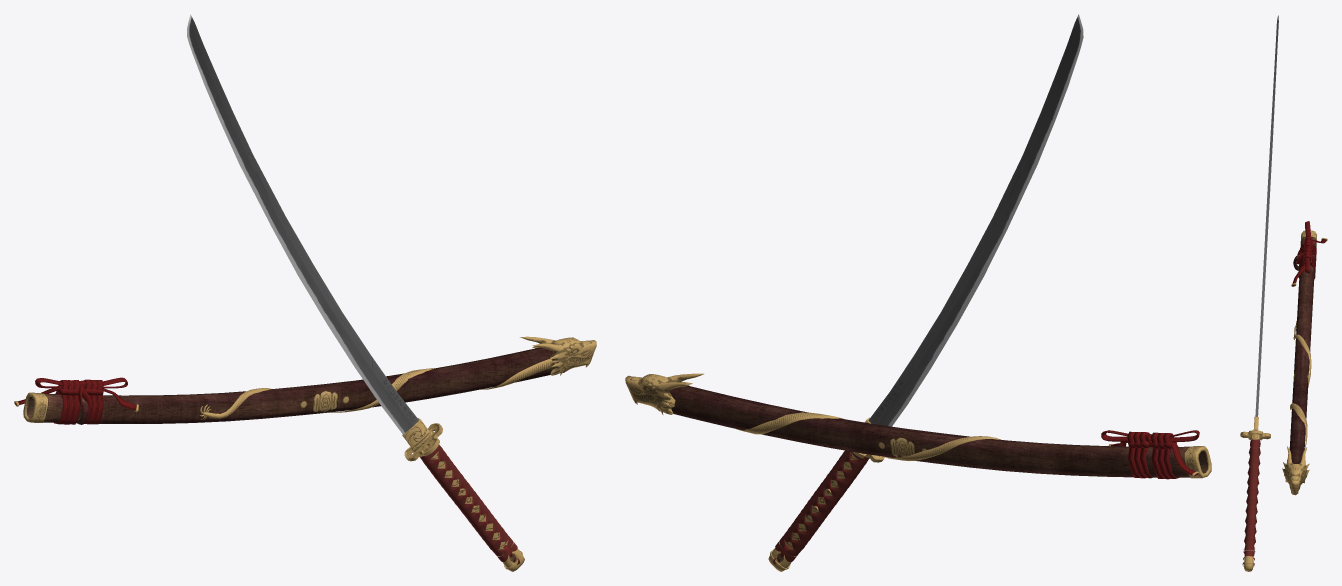
3 renders of one model, left to right at view 1: azimuth 30°, elevation 25°; view 2: azimuth 150°, elevation 25°; view 3: azimuth 270°, elevation 25°, orthographic. The views are drawn at different scales.
Parts seen in each view (by area): view 1: ck_scabbard_low, ck_katana_low; view 2: ck_scabbard_low, ck_katana_low; view 3: ck_scabbard_low, ck_katana_low.
Part boxes in pixels (<box>): ck_scabbard_low: <box>14,336,596,424</box>; ck_katana_low: <box>187,14,524,571</box>; ck_scabbard_low: <box>625,373,1211,479</box>; ck_katana_low: <box>768,14,1083,571</box>; ck_scabbard_low: <box>1282,221,1327,495</box>; ck_katana_low: <box>1240,15,1278,571</box>.
Bounding box in the file's own units: 59.27 × 62.23 × 10.92.
Materials: 1 (1 with a texture image).
